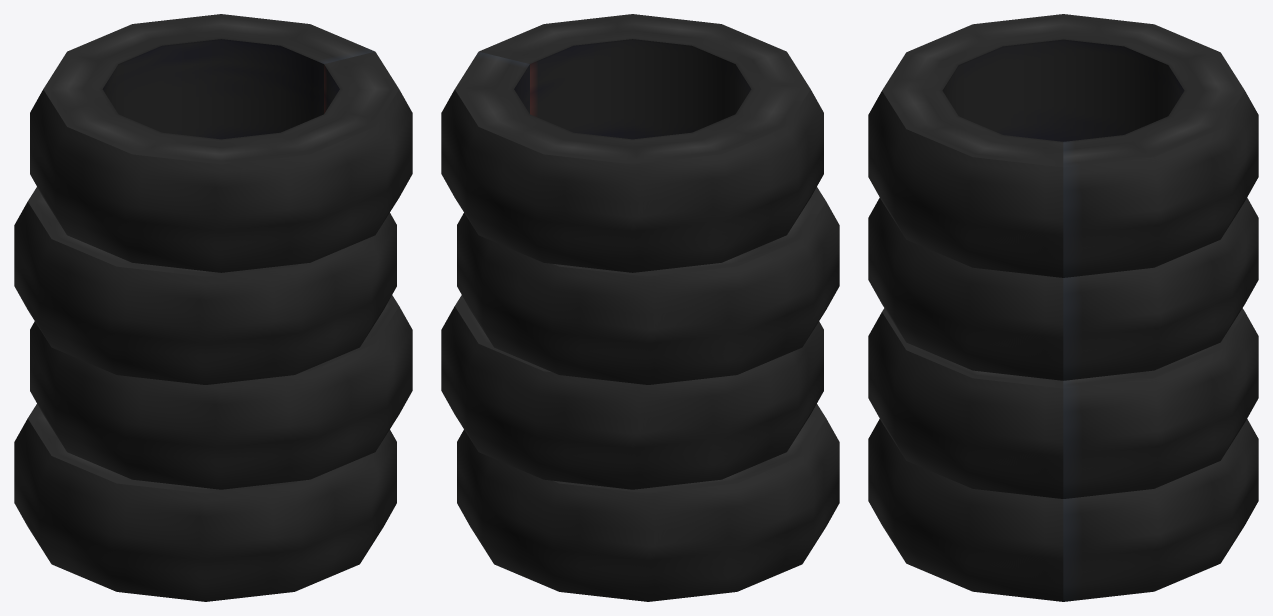
Rendered from tire_stack.obj.
3 views of the same model, side by side, from view 1: azimuth 30°, elevation 25°; view 2: azimuth 150°, elevation 25°; view 3: azimuth 270°, elevation 25° (orthographic).
Visible parts, largest first — view 1: tire_stack; view 2: tire_stack; view 3: tire_stack.
Boxes of the visible parts, bbox=[...] form: tire_stack: bbox=[14, 14, 412, 601]; tire_stack: bbox=[441, 14, 839, 601]; tire_stack: bbox=[868, 14, 1258, 601].
Bounding box in the file's own units: 0.67 × 0.8 × 0.64.
Materials: 1 (1 with a texture image).
